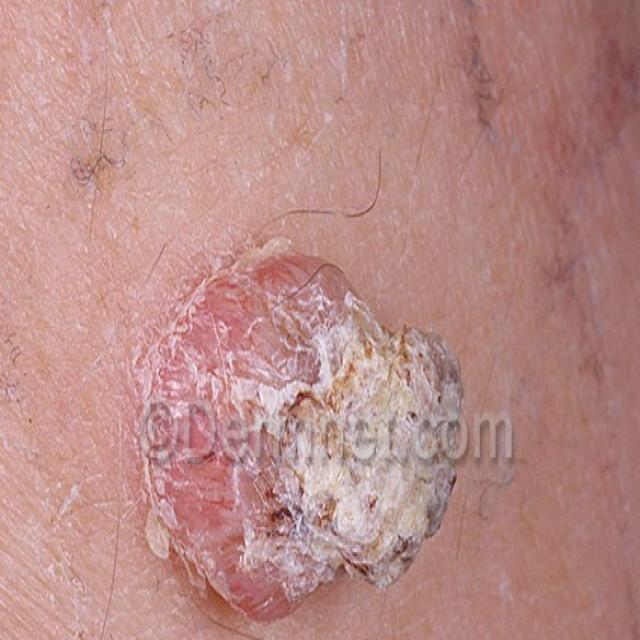Warts: (143, 227, 452, 640)
